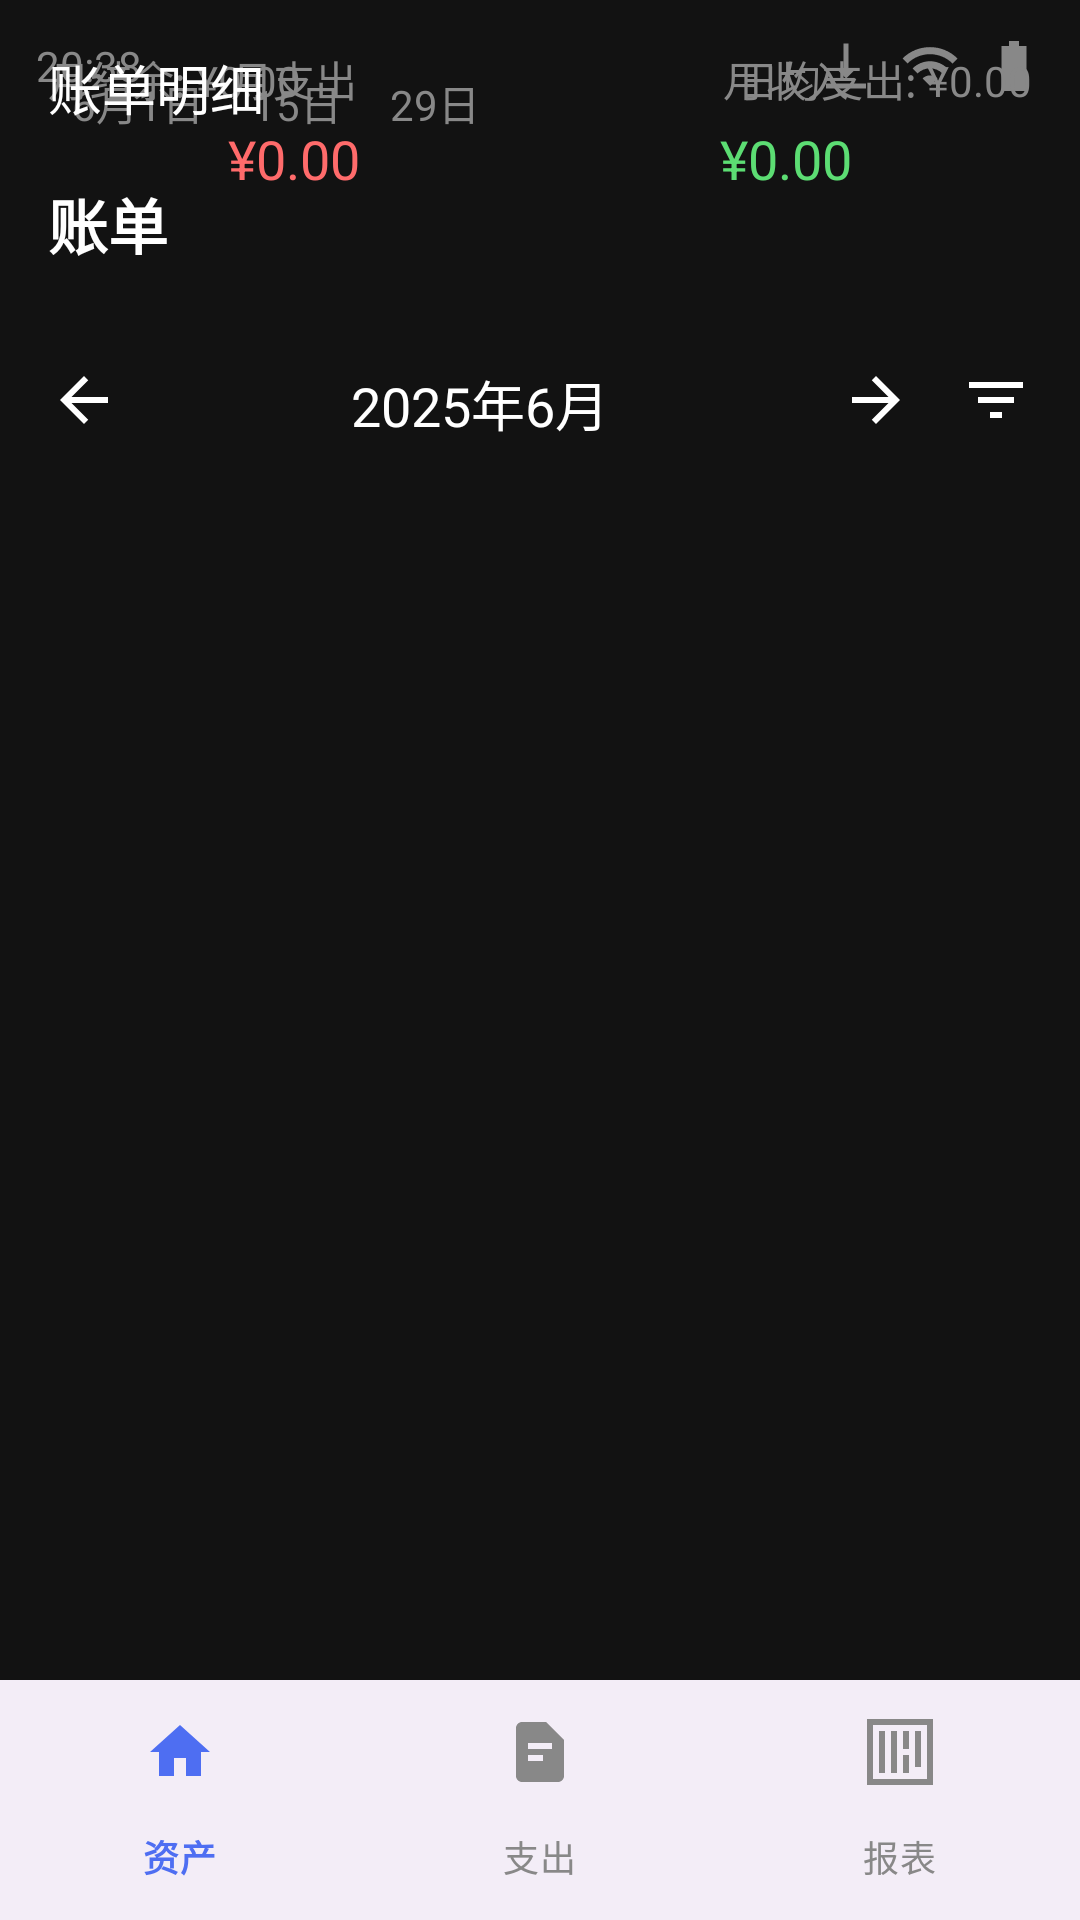

Icon click points for this 1080 × 1920 phone screenshot, format [x,y]:
arrow left: [84,400]
arrow right: [876,400]
filter: [996,400]
